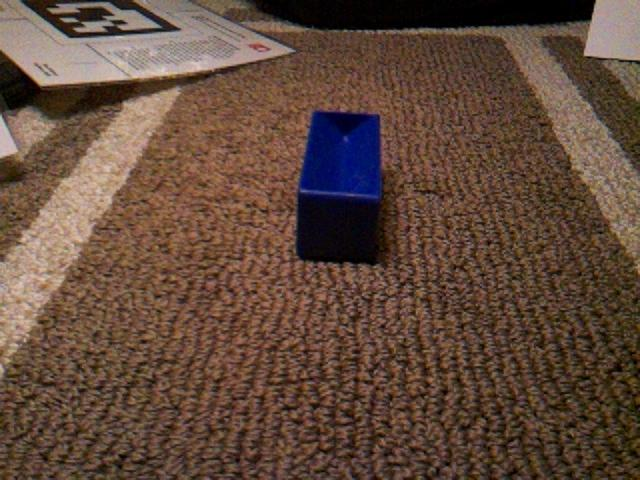blue: (295, 109, 384, 265)
